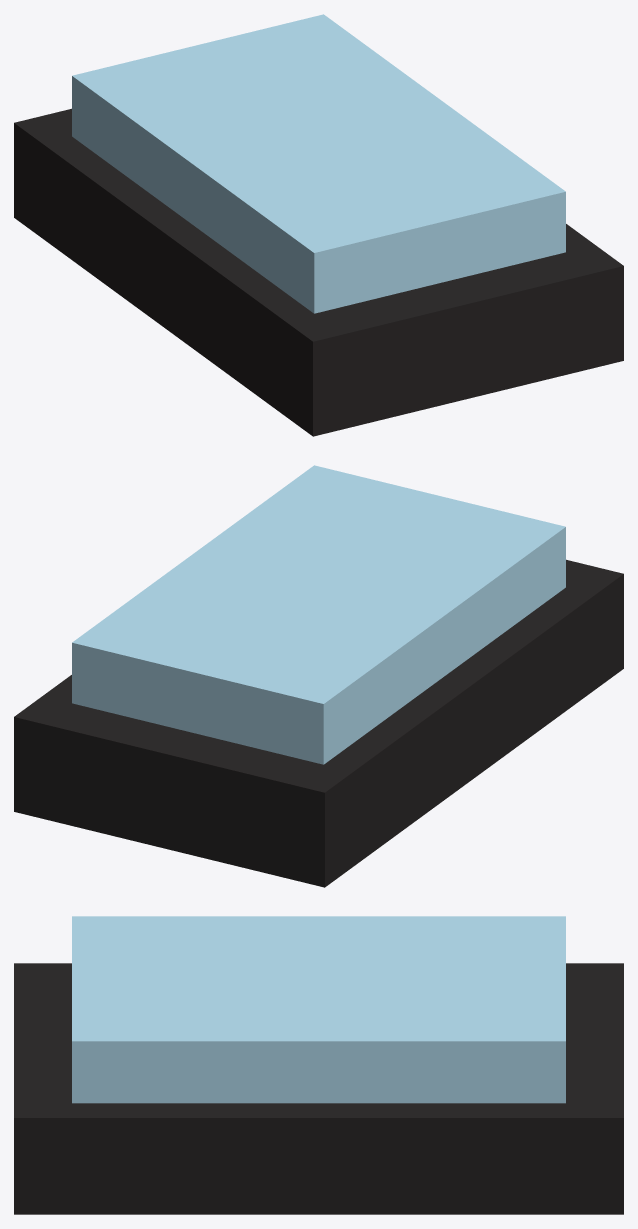
The model's file is Button_square.fbx.
The picture shows the model from 3 angles, top to bottom: view 1: azimuth 30°, elevation 25°; view 2: azimuth 150°, elevation 25°; view 3: azimuth 270°, elevation 25°; orthographic projection.
Parts seen in each view (by area): view 1: Cube.001, Cube; view 2: Cube.001, Cube; view 3: Cube.001, Cube.
Part boxes in pixels (x1=…): Cube.001: x1=72, y1=14, x2=565, y2=313; Cube: x1=14, y1=108, x2=623, y2=436; Cube.001: x1=72, y1=465, x2=565, y2=764; Cube: x1=14, y1=559, x2=623, y2=887; Cube.001: x1=72, y1=916, x2=565, y2=1103; Cube: x1=14, y1=963, x2=623, y2=1214.
Bounding box in the file's own units: 240 × 115 × 400.
